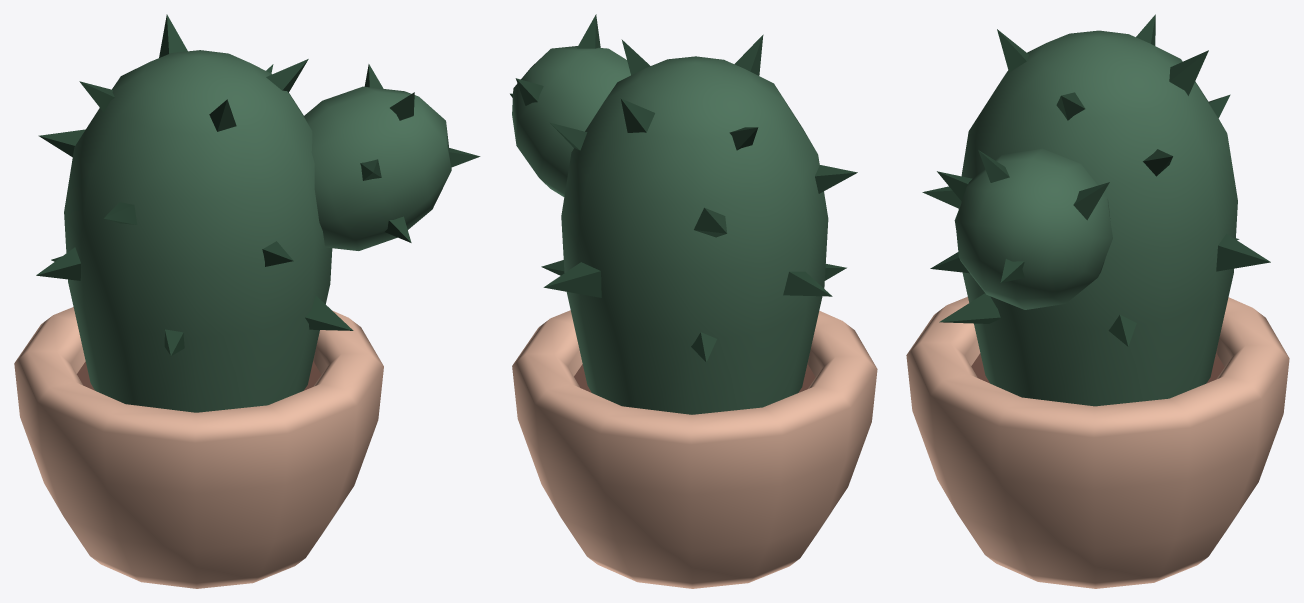
File: flower_008.fbx
3 views of the same model, side by side, from view 1: azimuth 30°, elevation 25°; view 2: azimuth 150°, elevation 25°; view 3: azimuth 270°, elevation 25° (orthographic). The views are drawn at different scales.
Visible parts, largest first — view 1: flower_008; view 2: flower_008; view 3: flower_008.
Boxes of the visible parts, <box> form: flower_008: <box>14,14,480,588</box>; flower_008: <box>510,14,877,588</box>; flower_008: <box>906,14,1289,588</box>.
Bounding box in the file's own units: 33.07 × 26.84 × 38.8.
